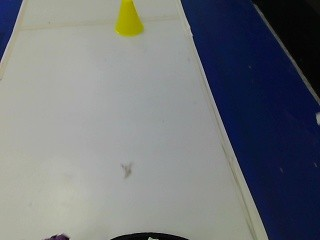cone: (108, 0, 146, 38)
